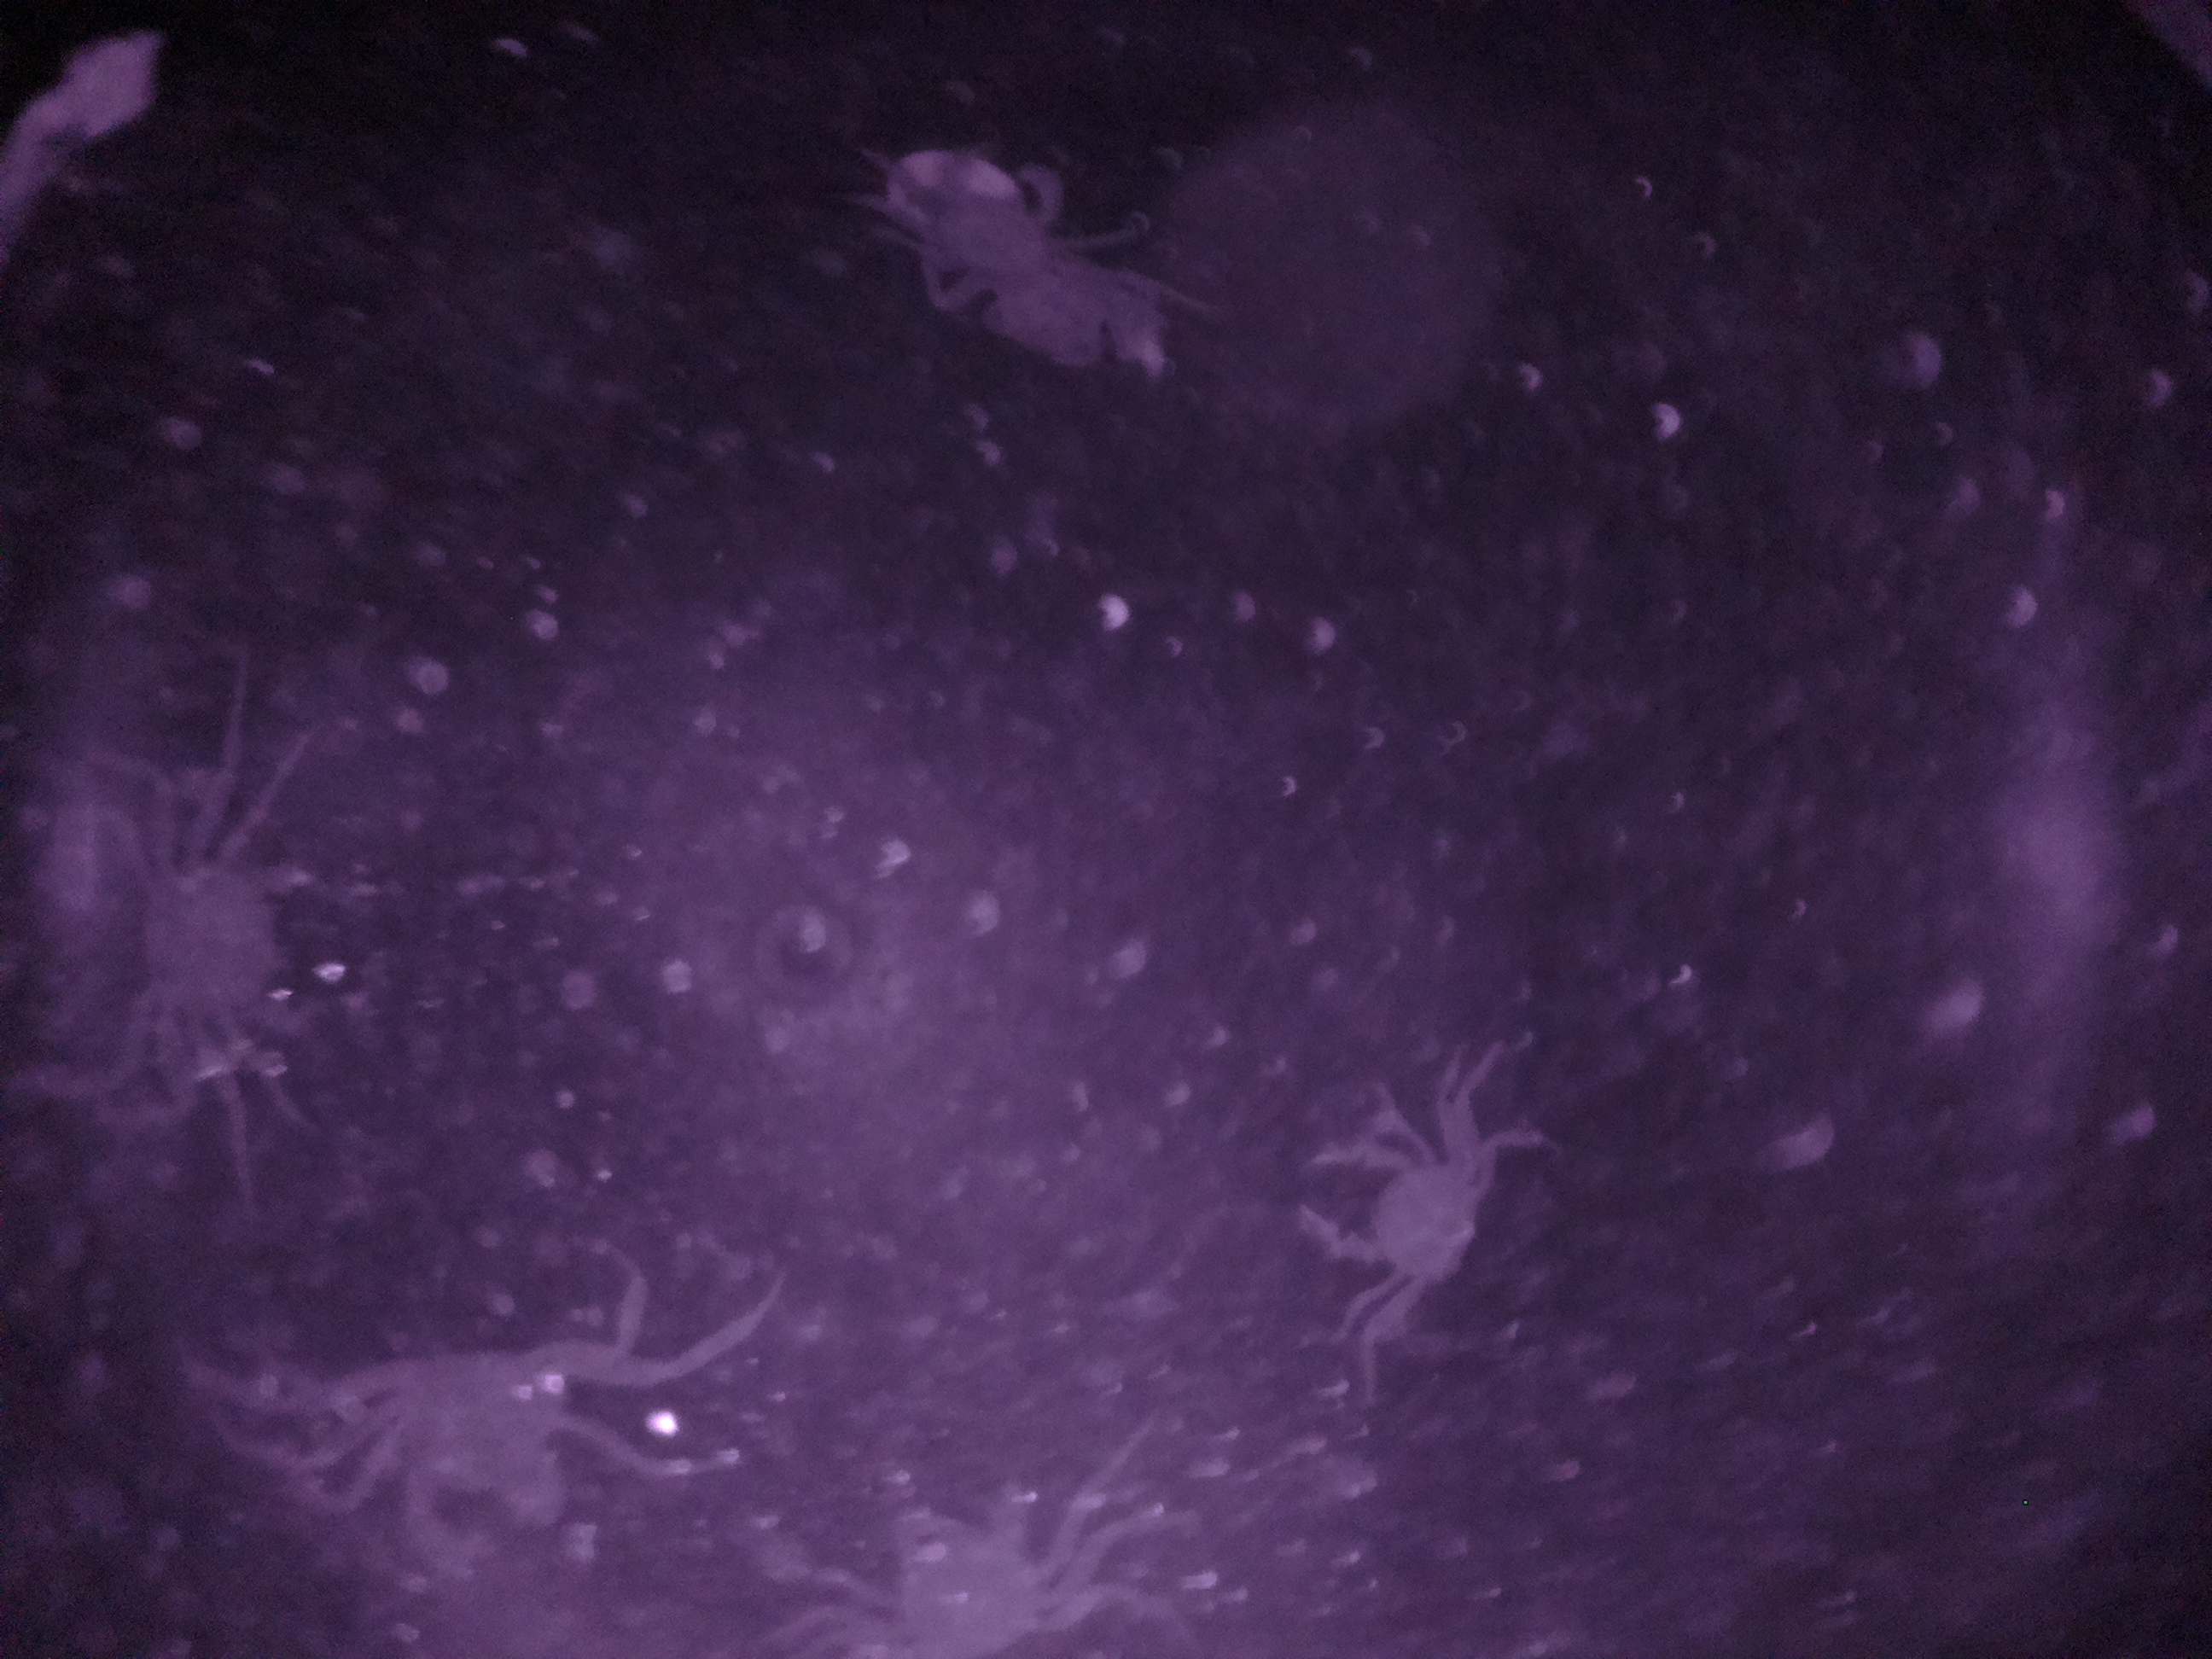Crab: (1277, 1087, 1519, 1333)
